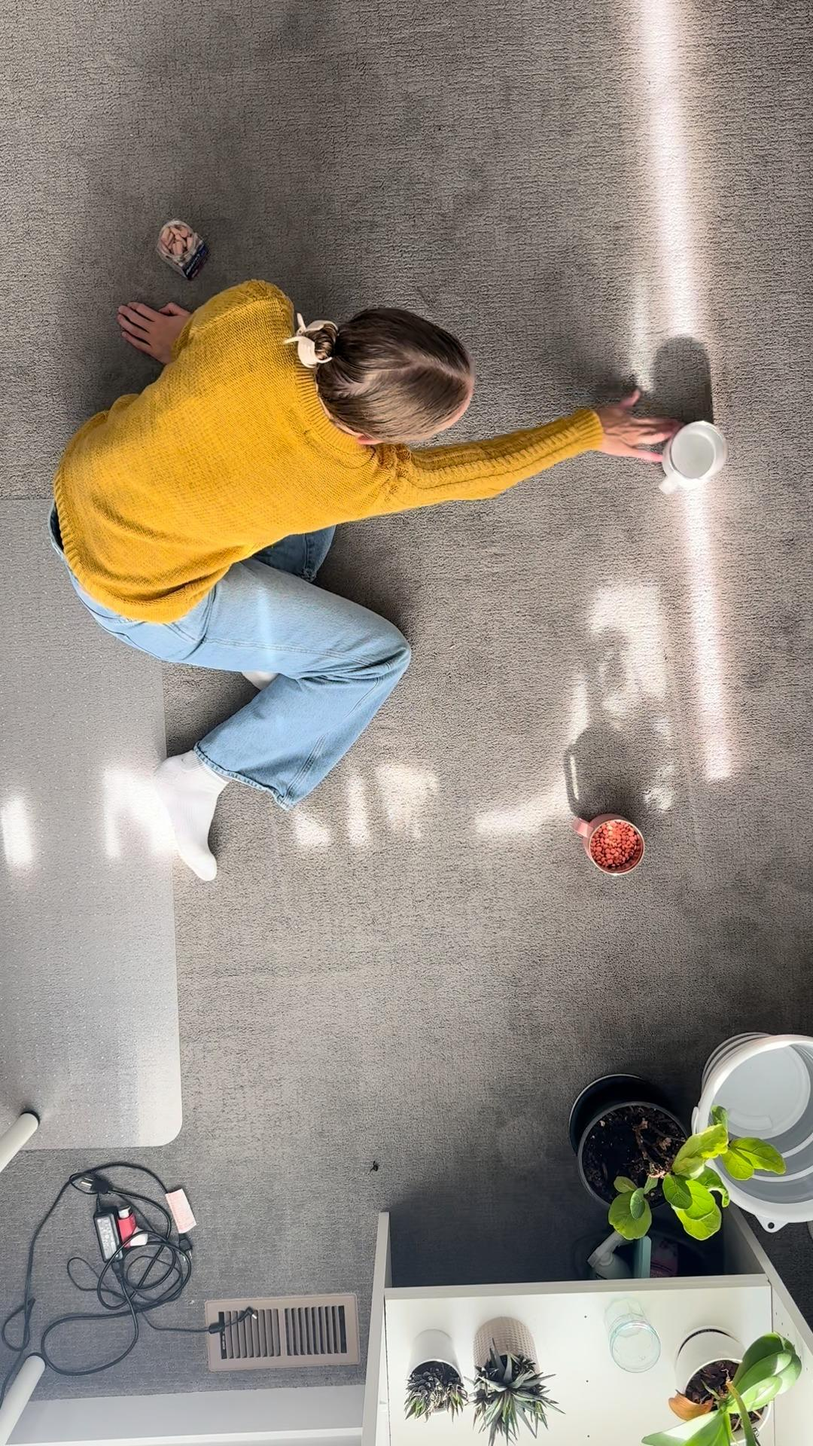IBC: (567, 798, 650, 885), (647, 414, 733, 495)
